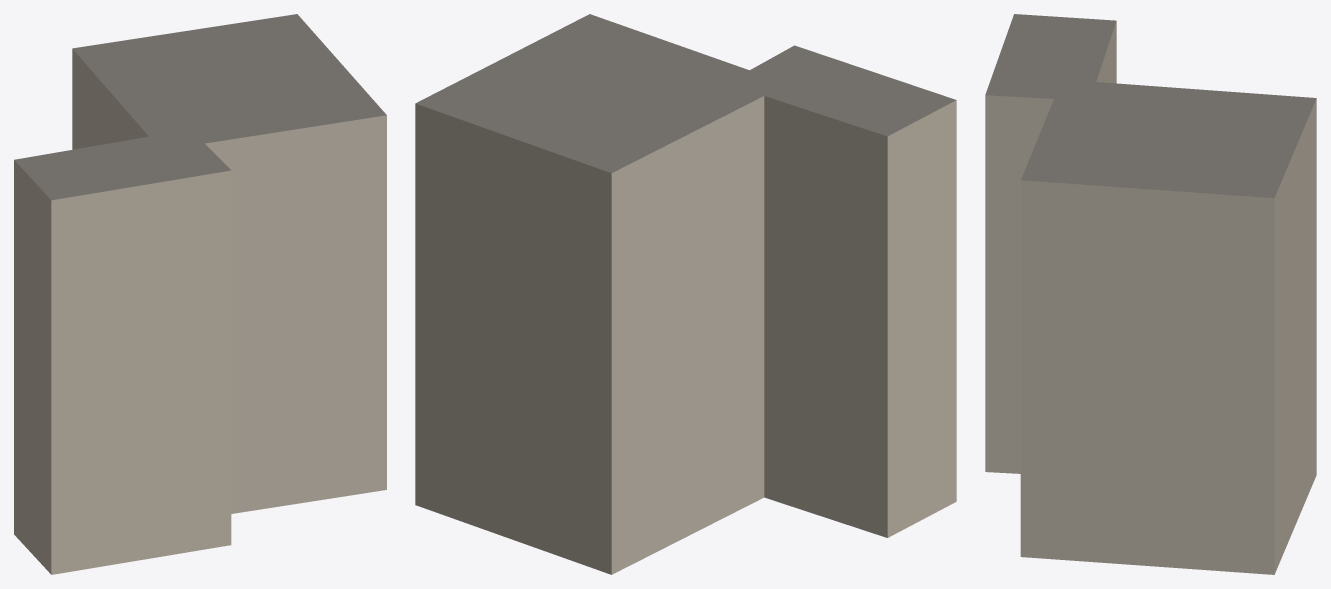
3 renders of one model, left to right at view 1: azimuth 30°, elevation 25°; view 2: azimuth 150°, elevation 25°; view 3: azimuth 270°, elevation 25°, orthographic. The views are drawn at different scales.
Visible parts, largest first — view 1: HP-w505636154; view 2: HP-w505636154; view 3: HP-w505636154.
Boxes of the visible parts, x1=… form: HP-w505636154: x1=14, y1=14, x2=386, y2=574; HP-w505636154: x1=415, y1=14, x2=956, y2=574; HP-w505636154: x1=985, y1=14, x2=1316, y2=574.
Bounding box in the file's own units: 18.88 × 18 × 14.36.
